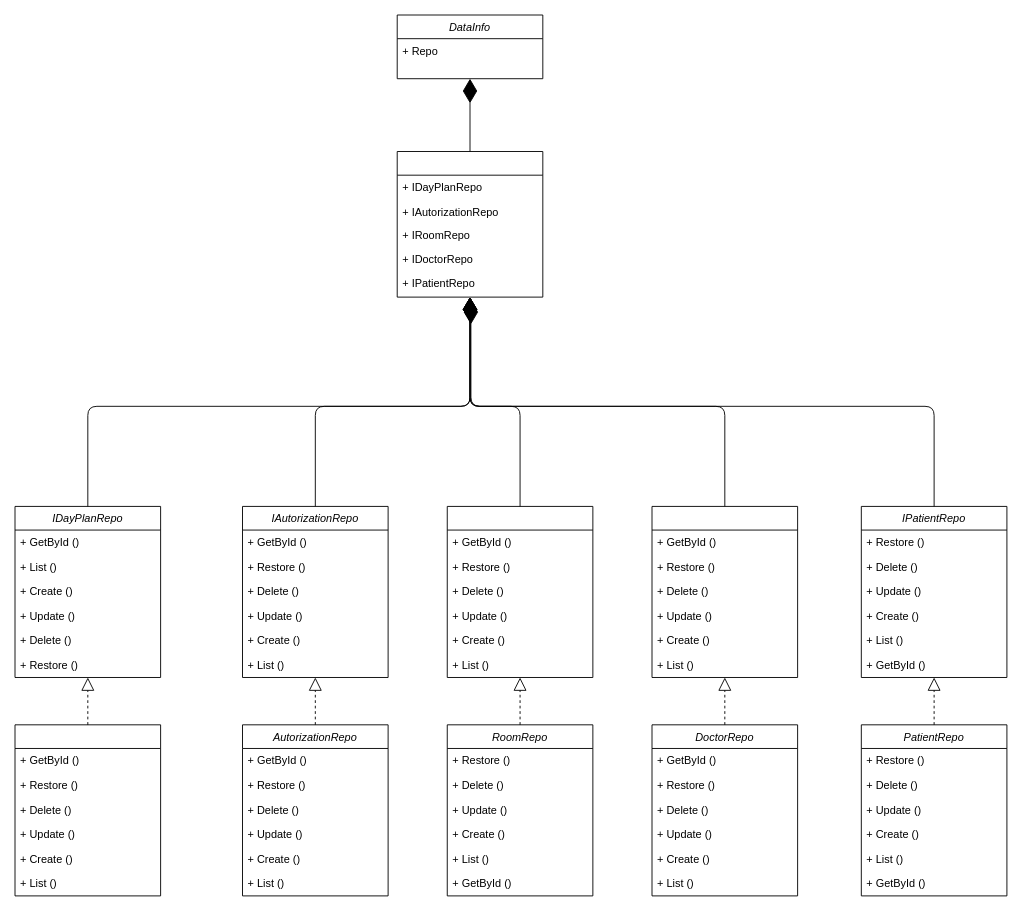
The diagram is 1022 pixels wide and 911 high, and some of its shapes have lost their labels. The box of each missing label's shape, as (x1, y1, x2, y2) in pixels:
DayPlanRepo: (14, 724, 161, 896)
IDoctorRepo: (651, 506, 798, 677)
IRoomRepo: (446, 506, 593, 677)
Repository: (396, 151, 543, 297)
